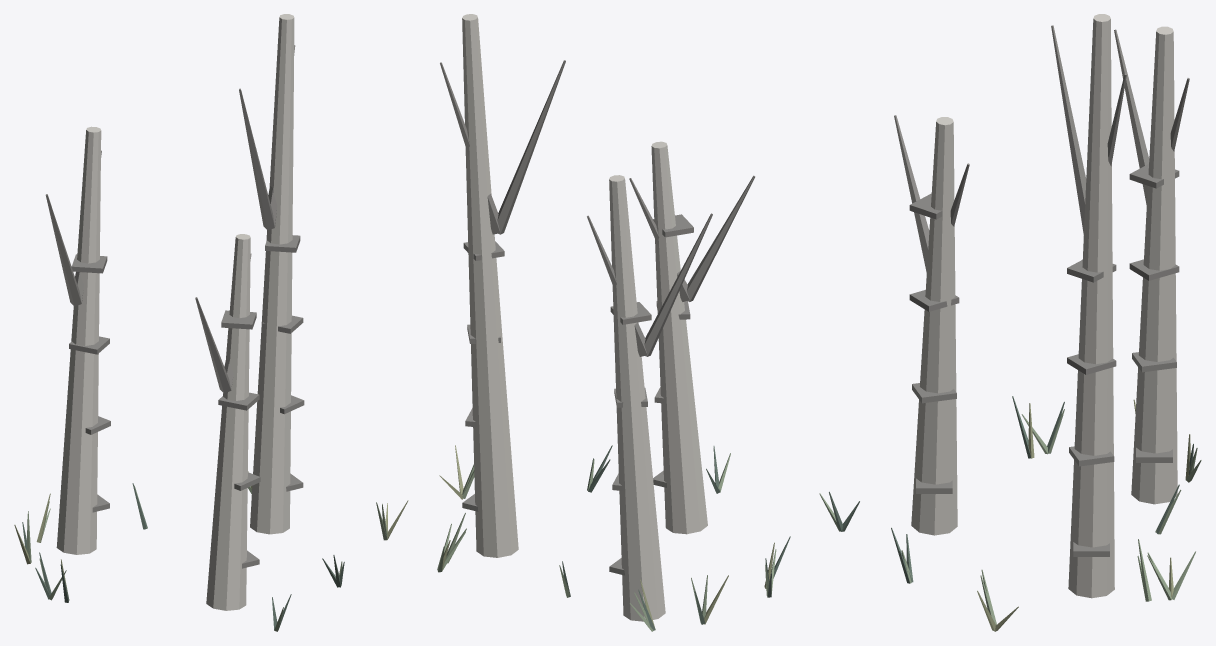
Rendered from pale_birch_thicket.glb.
3 views of the same model, side by side, from view 1: azimuth 30°, elevation 25°; view 2: azimuth 150°, elevation 25°; view 3: azimuth 270°, elevation 25° (orthographic). The views are drawn at different scales.
Visible parts, largest first — view 1: material_00, material_01, material_03, material_02, material_04; view 2: material_00, material_01, material_02, material_03, material_04; view 3: material_00, material_01, material_02, material_03, material_04.
Part boxes in pixels (x1=…): material_00: x1=56, y1=14, x2=294, y2=610; material_01: x1=45, y1=45, x2=304, y2=568; material_03: x1=22, y1=483, x2=344, y2=629; material_02: x1=27, y1=485, x2=387, y2=631; material_04: x1=14, y1=471, x2=408, y2=595; material_00: x1=462, y1=14, x2=707, y2=621; material_01: x1=440, y1=60, x2=755, y2=575; material_02: x1=437, y1=453, x2=776, y2=631; material_03: x1=562, y1=445, x2=790, y2=630; material_04: x1=439, y1=445, x2=774, y2=627; material_00: x1=911, y1=14, x2=1177, y2=598; material_01: x1=894, y1=25, x2=1189, y2=556; material_02: x1=819, y1=409, x2=1201, y2=630; material_03: x1=829, y1=396, x2=1193, y2=583; material_04: x1=977, y1=399, x2=1190, y2=631.
Bounding box in the file's own units: 1.72 × 2.46 × 1.46.
